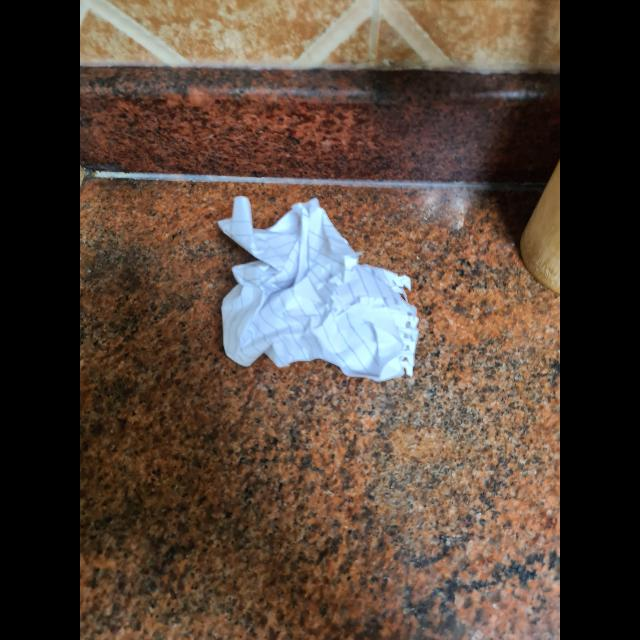scrap_paper: (220, 189, 434, 381)
